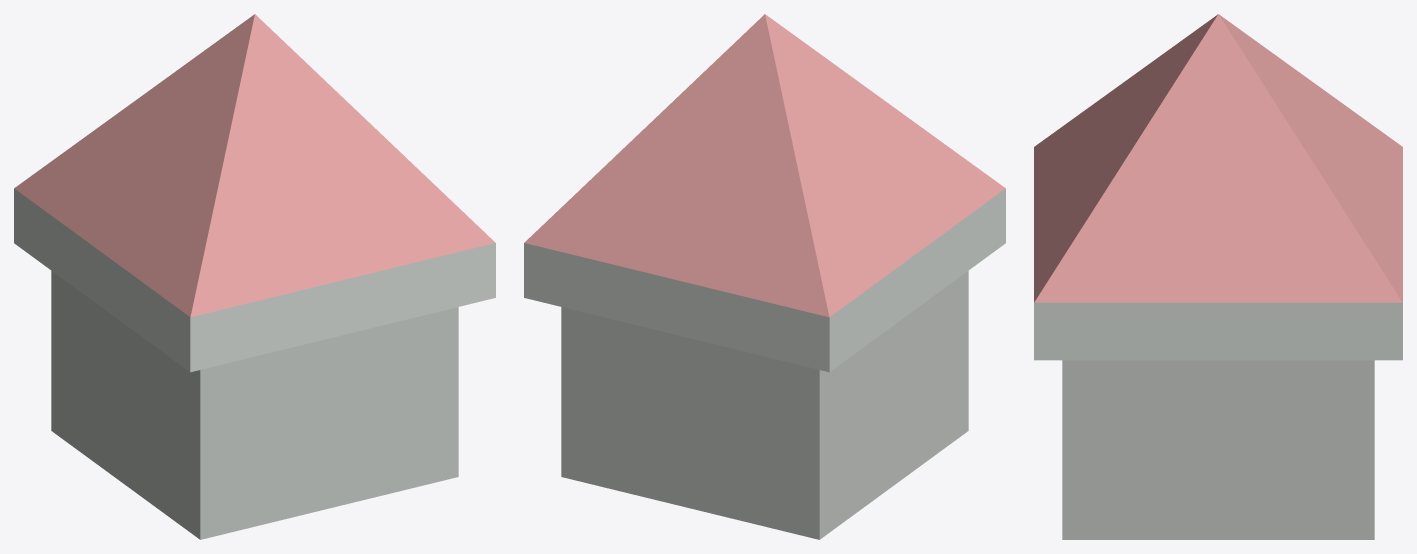
Rendered from tile_023.glb.
3 views of the same model, side by side, from view 1: azimuth 30°, elevation 25°; view 2: azimuth 150°, elevation 25°; view 3: azimuth 270°, elevation 25° (orthographic). The views are drawn at different scales.
Visible parts, largest first — view 1: tile_023; view 2: tile_023; view 3: tile_023.
Part boxes in pixels (x1,y1,x2,y2): tile_023: (14,14,495,539); tile_023: (524,14,1005,539); tile_023: (1034,14,1402,539).
Bounding box in the file's own units: 0.6974 × 0.96 × 0.6974.
